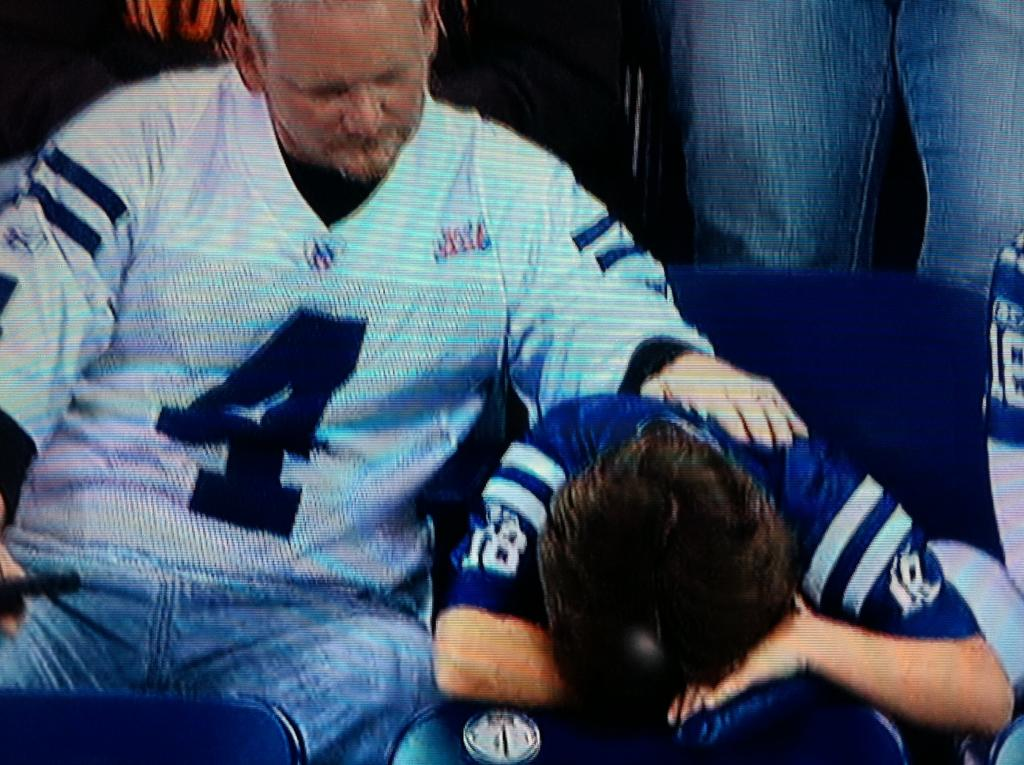face: (268, 24, 428, 180)
